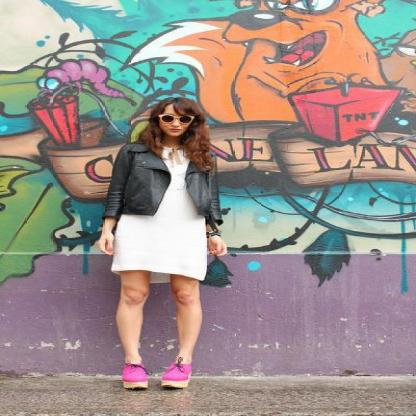dress: (112, 147, 214, 288)
jacket: (87, 136, 230, 234)
shoe: (112, 362, 192, 387)
